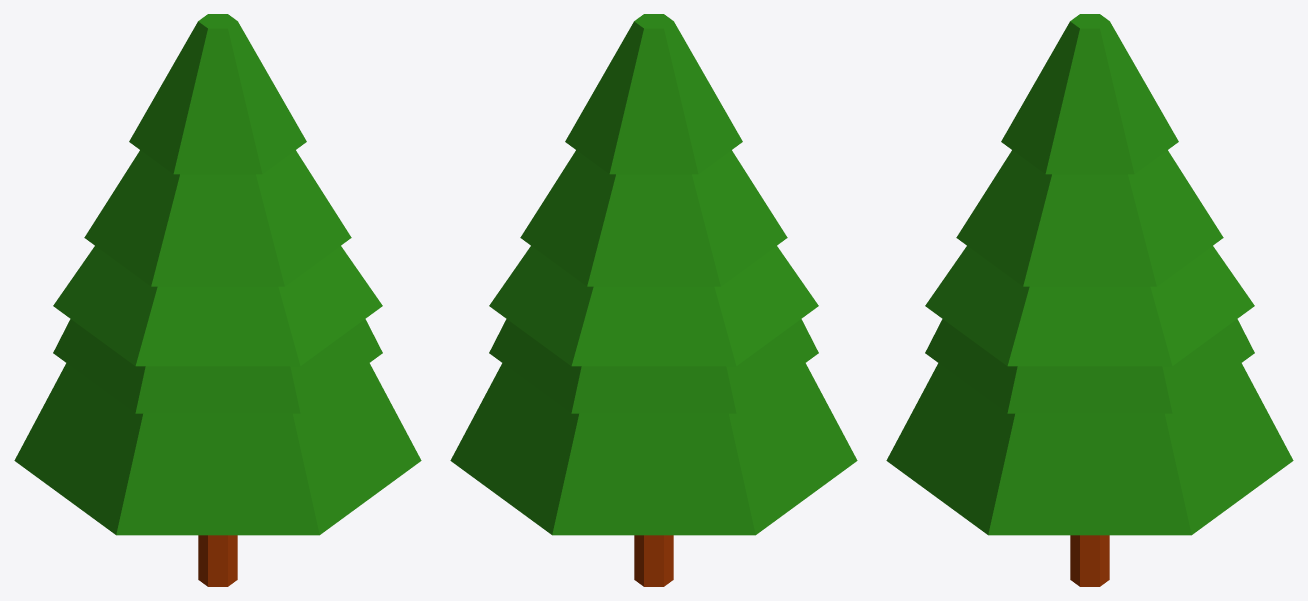
File: Tree.fbx
3 renders of one model, left to right at view 1: azimuth 30°, elevation 25°; view 2: azimuth 150°, elevation 25°; view 3: azimuth 270°, elevation 25°, orthographic.
Visible parts, largest first — view 1: Leaves; view 2: Leaves; view 3: Leaves.
Boxes of the visible parts, <box> form: Leaves: <box>14,14,421,586</box>; Leaves: <box>450,14,857,586</box>; Leaves: <box>886,14,1293,586</box>.
Size of the model in its own units: 1789 by 3127 by 2066.
